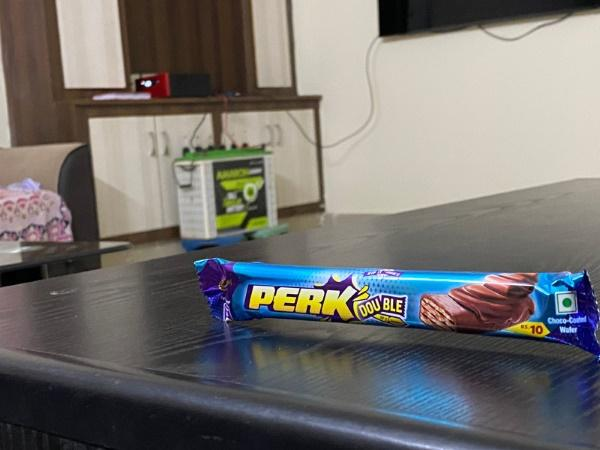Perk: (196, 254, 600, 359)
